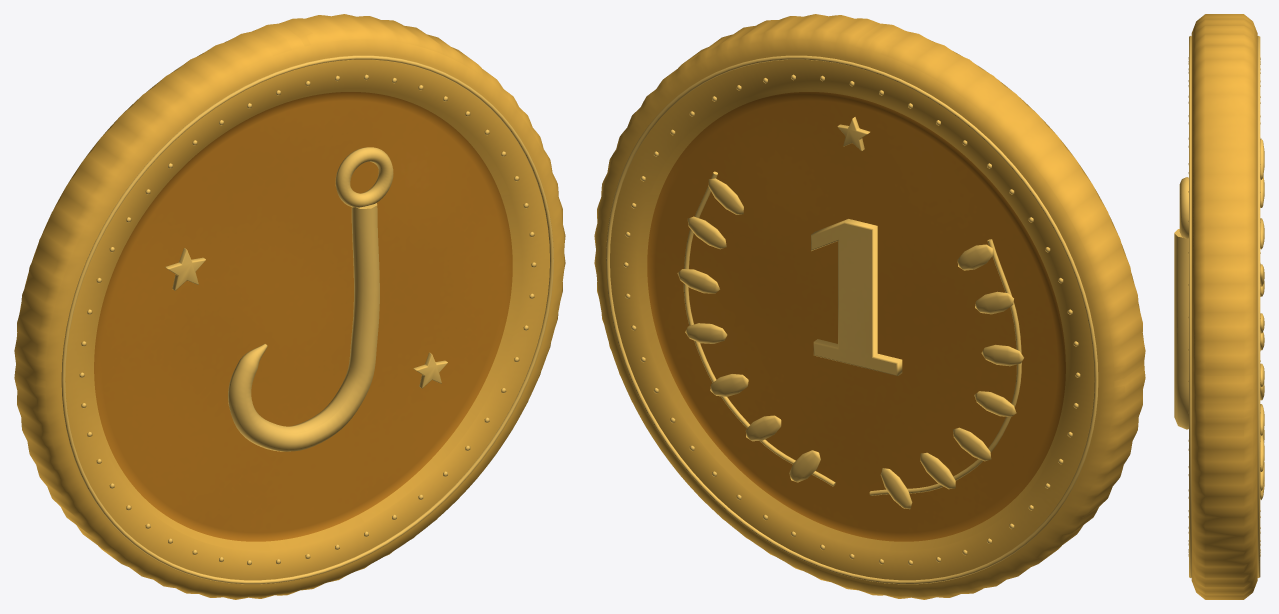
The model's file is Gold_Coin_Static.fbx.
3 renders of one model, left to right at view 1: azimuth 30°, elevation 25°; view 2: azimuth 150°, elevation 25°; view 3: azimuth 270°, elevation 25°, orthographic. The views are drawn at different scales.
Parts seen in each view (by area): view 1: Gold_Coin; view 2: Gold_Coin; view 3: Gold_Coin.
Boxes of the visible parts, box(x1,y1,x2,y2) form: Gold_Coin: box(14, 14, 565, 599); Gold_Coin: box(594, 14, 1145, 599); Gold_Coin: box(1174, 14, 1264, 599).
Size of the model in its own units: 63.92 by 63.92 by 9.88.
3 materials, 3 textured.
